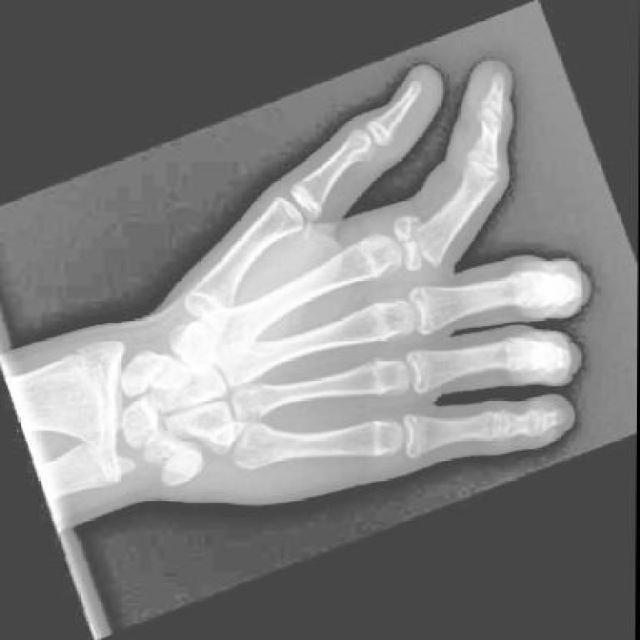Fracture: (393, 211, 447, 280)
